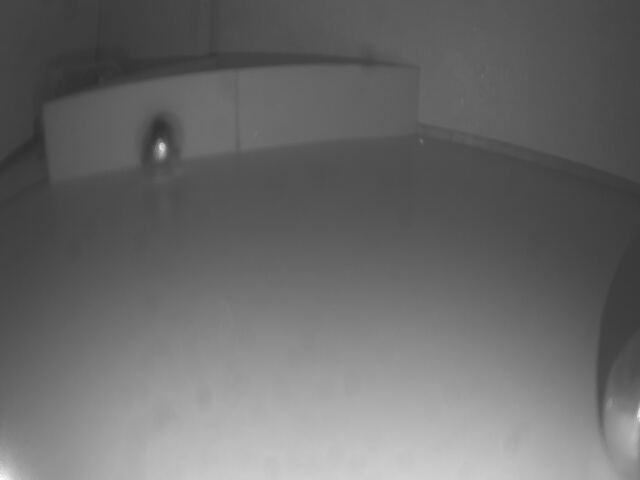Red: (52, 66, 421, 186)
